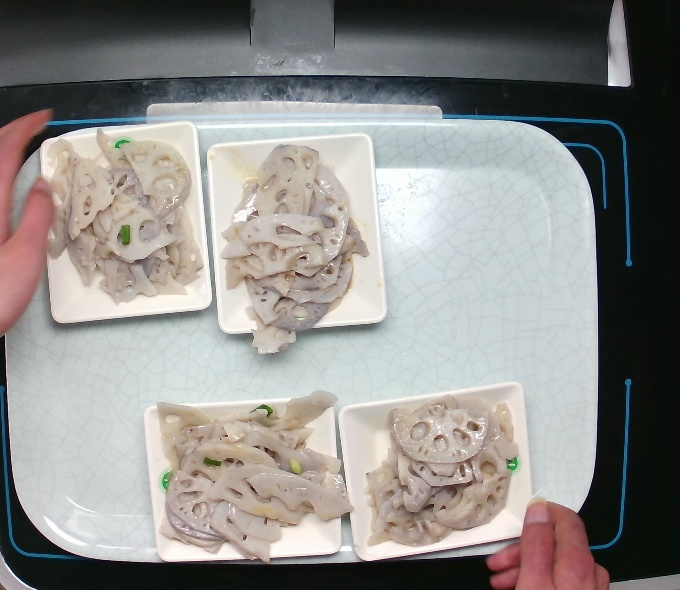wcq-OuPian: (141, 383, 353, 563), (213, 138, 375, 359), (40, 124, 210, 314), (354, 387, 526, 548)
